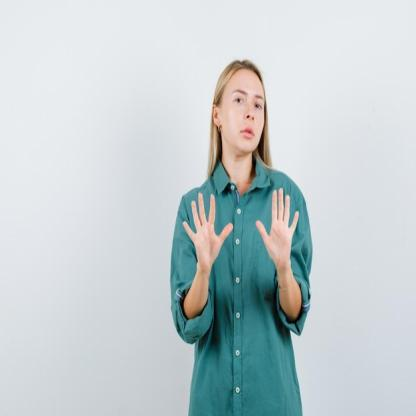stop: (254, 186, 302, 272), (183, 189, 235, 264)
